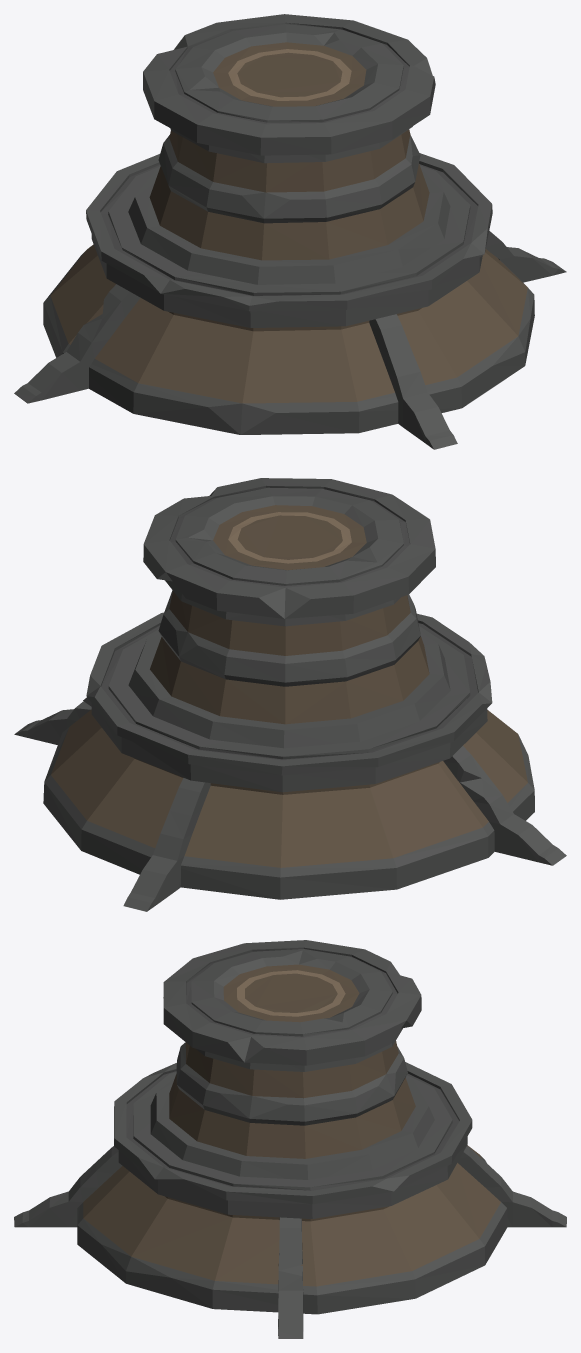
The model's file is SFCS_Mannequin_Podium.fbx.
The picture shows the model from 3 angles, top to bottom: view 1: azimuth 30°, elevation 25°; view 2: azimuth 150°, elevation 25°; view 3: azimuth 270°, elevation 25°; orthographic projection. The views are drawn at different scales.
Parts seen in each view (by area): view 1: SFCS_Mannequin_Podium; view 2: SFCS_Mannequin_Podium; view 3: SFCS_Mannequin_Podium.
Boxes of the visible parts, box(x1,y1,x2,y2) form: SFCS_Mannequin_Podium: box(14, 14, 566, 449); SFCS_Mannequin_Podium: box(14, 478, 566, 911); SFCS_Mannequin_Podium: box(14, 940, 566, 1338).
Size of the model in its own units: 102 by 47.48 by 102.
